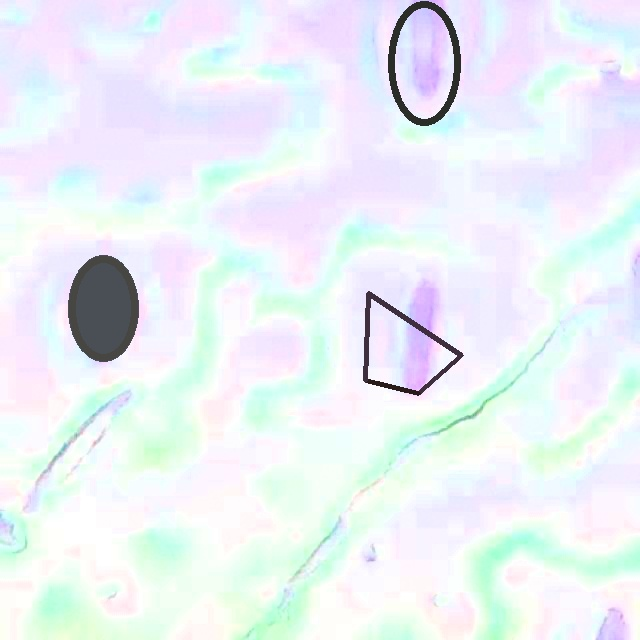open: (363, 291, 463, 395), (389, 1, 460, 125), (68, 255, 138, 361)
